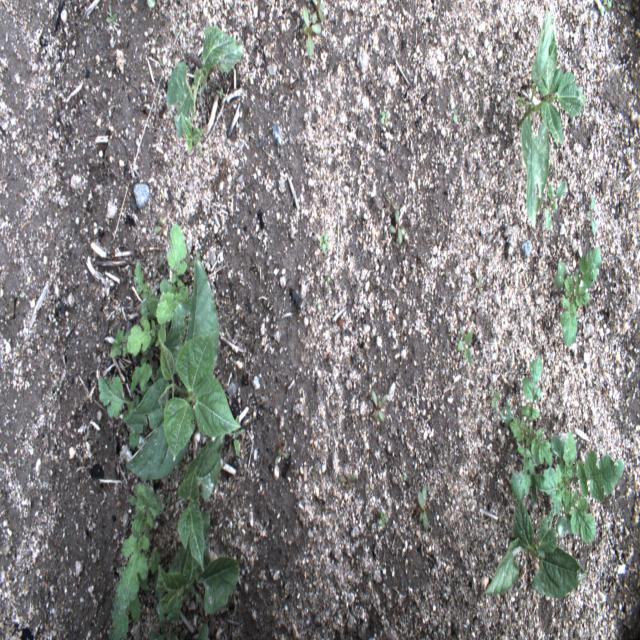crop: (124, 252, 241, 480), (512, 1, 588, 237), (152, 440, 242, 636), (165, 18, 246, 151), (479, 502, 587, 601)
weed: (484, 354, 625, 541), (95, 224, 190, 416), (105, 484, 163, 638), (551, 246, 602, 352), (298, 0, 327, 60), (546, 174, 568, 237), (410, 480, 434, 536), (367, 382, 394, 430), (453, 323, 478, 371), (268, 428, 294, 472), (389, 193, 411, 243), (374, 92, 397, 134), (376, 493, 396, 537), (334, 457, 359, 490), (468, 300, 490, 332), (586, 190, 600, 240), (316, 214, 332, 253), (468, 269, 488, 299), (521, 240, 541, 264), (104, 1, 120, 30), (320, 270, 338, 295), (449, 96, 461, 131), (213, 82, 230, 102), (155, 212, 167, 240), (599, 3, 615, 17), (144, 0, 159, 12)
